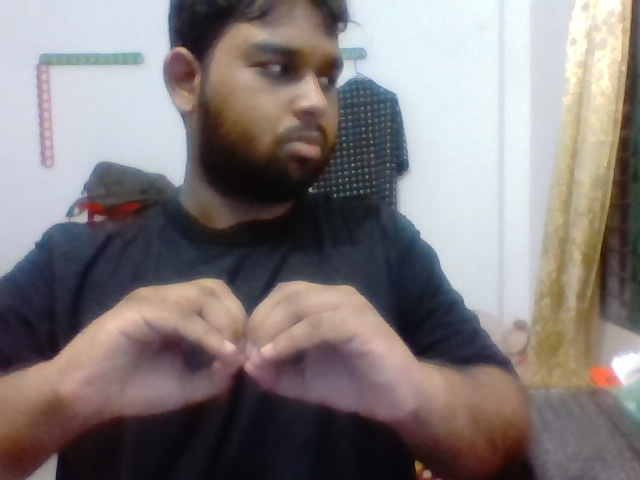B: (73, 270, 429, 445)
